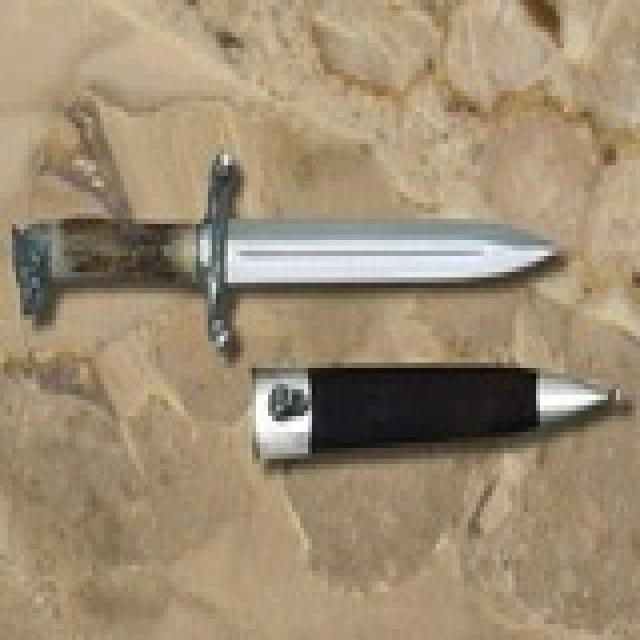Knife: (11, 165, 628, 455)
